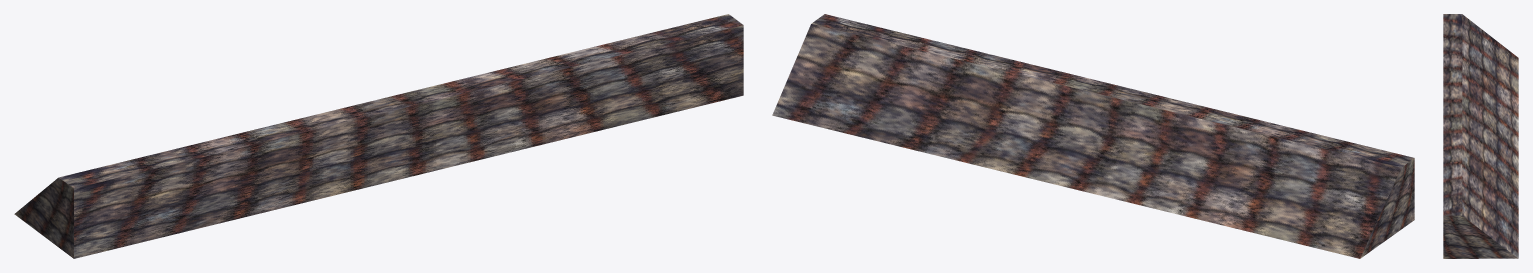
File: telhado.gltf
3 views of the same model, side by side, from view 1: azimuth 30°, elevation 25°; view 2: azimuth 150°, elevation 25°; view 3: azimuth 270°, elevation 25° (orthographic). The views are drawn at different scales.
Visible parts, largest first — view 1: cuboid; view 2: cuboid; view 3: cuboid.
Part boxes in pixels (x1,y1,x2,y2): cuboid: [14, 14, 743, 258]; cuboid: [772, 14, 1414, 258]; cuboid: [1443, 14, 1518, 258].
Bounding box in the file's own units: 3.18 × 0.3187 × 0.5.
Materials: 1 (1 with a texture image).
